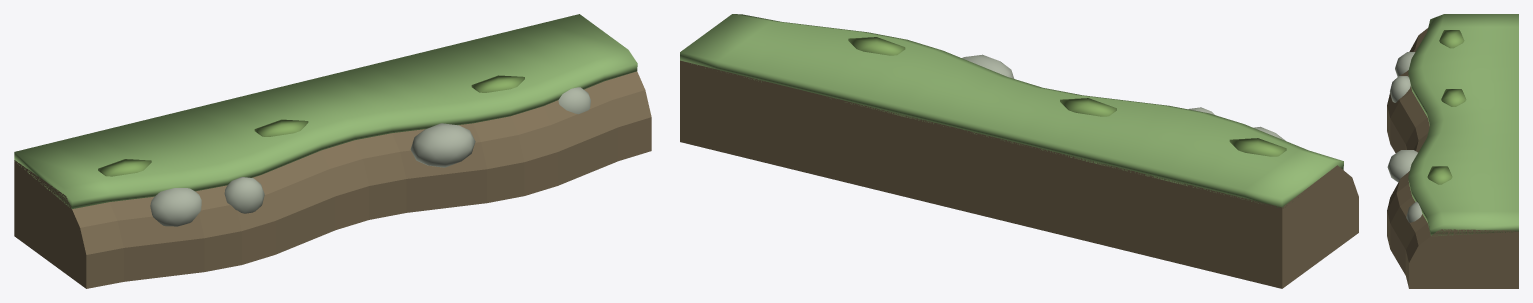
Rendered from river-bank.glb.
3 renders of one model, left to right at view 1: azimuth 30°, elevation 25°; view 2: azimuth 150°, elevation 25°; view 3: azimuth 270°, elevation 25°, orthographic. The views are drawn at different scales.
Parts seen in each view (by area): view 1: river-bank_earth, river-bank_grass, river-bank_rock, river-bank_moss; view 2: river-bank_earth, river-bank_grass, river-bank_moss, river-bank_rock; view 3: river-bank_grass, river-bank_earth, river-bank_rock, river-bank_moss.
Part boxes in pixels (box(x1,y1,x2,y2)): river-bank_earth: box(14, 71, 651, 288); river-bank_grass: box(14, 14, 637, 208); river-bank_rock: box(150, 87, 590, 226); river-bank_moss: box(98, 75, 524, 176); river-bank_earth: box(680, 60, 1358, 288); river-bank_grass: box(680, 14, 1343, 208); river-bank_moss: box(848, 37, 1286, 156); river-bank_rock: box(962, 54, 1285, 140); river-bank_grass: box(1408, 14, 1518, 235); river-bank_earth: box(1387, 28, 1518, 288); river-bank_rock: box(1387, 52, 1422, 222); river-bank_moss: box(1427, 30, 1466, 184).
Bounding box in the file's own units: 3.4 × 0.502 × 0.9.
